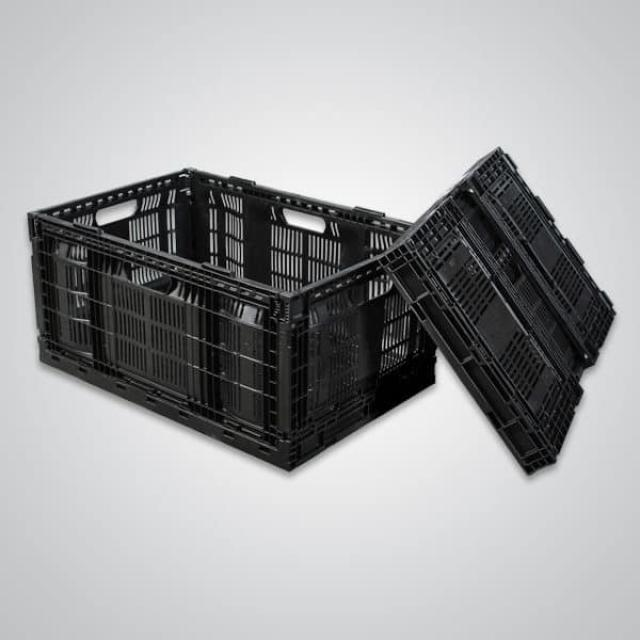basket: (28, 149, 619, 480)
